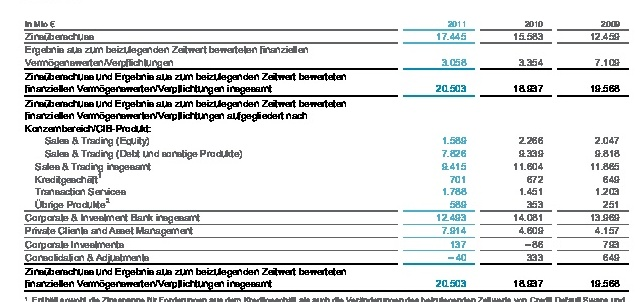table: (0, 0, 644, 302)
